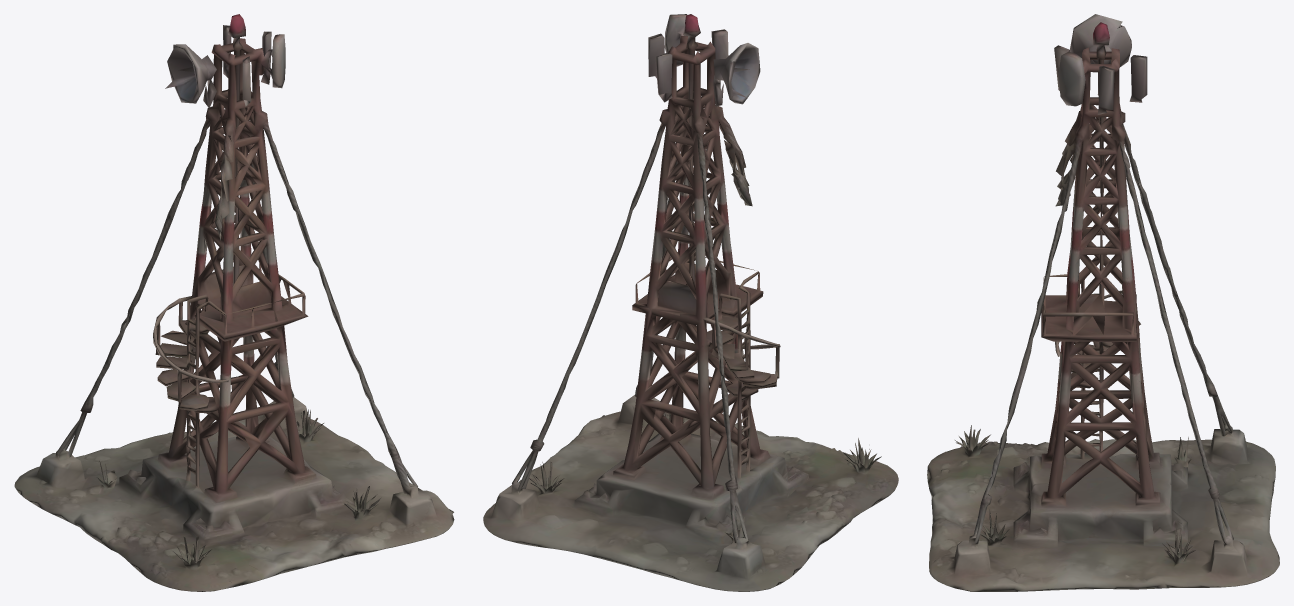
Rendered from conservation_office_mast.glb.
3 views of the same model, side by side, from view 1: azimuth 30°, elevation 25°; view 2: azimuth 150°, elevation 25°; view 3: azimuth 270°, elevation 25° (orthographic).
Parts seen in each view (by area): view 1: tripo_node_44501628-5359-4ba2-a19d-434e310179db; view 2: tripo_node_44501628-5359-4ba2-a19d-434e310179db; view 3: tripo_node_44501628-5359-4ba2-a19d-434e310179db.
Boxes of the visible parts, left/top/right/bottom form: tripo_node_44501628-5359-4ba2-a19d-434e310179db: left=14, top=14, right=454, bottom=591; tripo_node_44501628-5359-4ba2-a19d-434e310179db: left=483, top=14, right=898, bottom=591; tripo_node_44501628-5359-4ba2-a19d-434e310179db: left=927, top=14, right=1279, bottom=591.
Size of the model in its own units: 0.6624 by 1 by 0.6486.
1 material, 1 textured.
